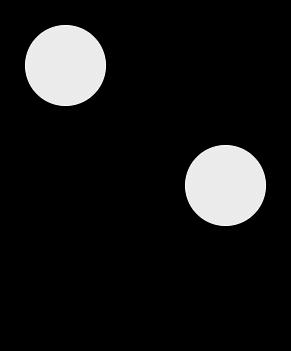E: (17, 17, 274, 334)
